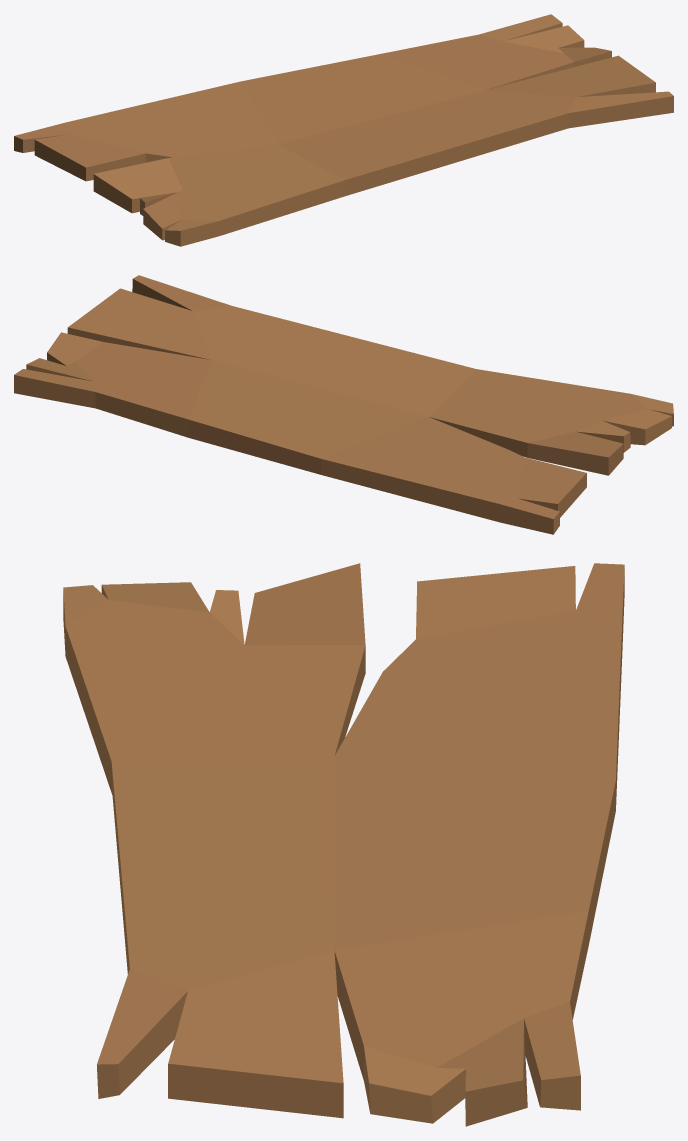
File: plank03.fbx
3 views of the same model, one above another, from view 1: azimuth 30°, elevation 25°; view 2: azimuth 150°, elevation 25°; view 3: azimuth 270°, elevation 25° (orthographic). The views are drawn at different scales.
Visible parts, largest first — view 1: Plane.002; view 2: Plane.002; view 3: Plane.002.
Part boxes in pixels (x1,y1,x2,y2): Plane.002: [14, 14, 673, 246]; Plane.002: [14, 275, 673, 534]; Plane.002: [63, 563, 624, 1126].
Size of the model in its own units: 92.34 by 5 by 42.
